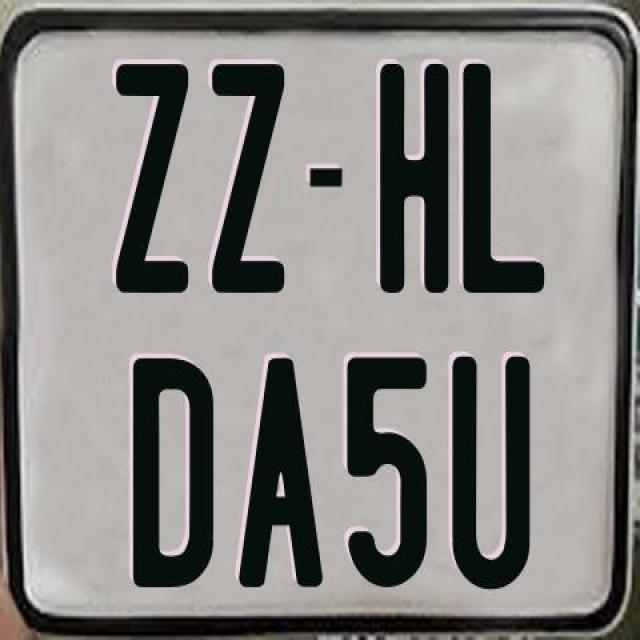5: (343, 354, 427, 588)
A: (236, 357, 328, 592)
D: (132, 354, 212, 584)
H: (376, 62, 448, 292)
L: (462, 62, 546, 300)
U: (452, 355, 530, 595)
Z: (210, 64, 290, 298), (115, 63, 191, 298)
